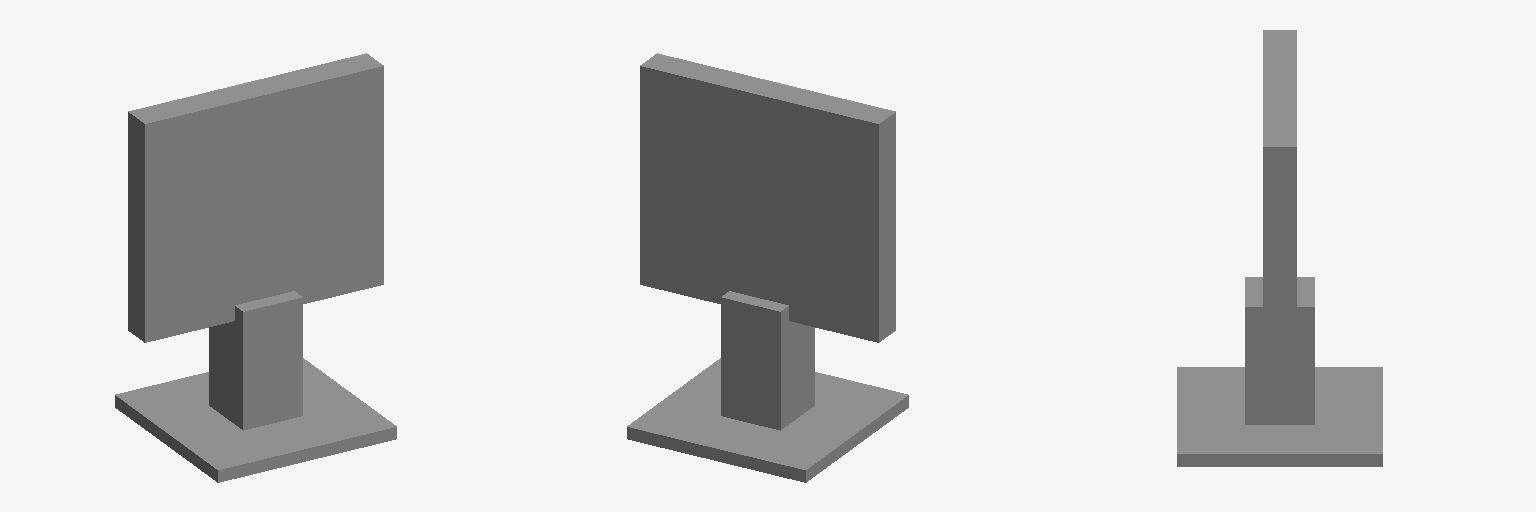
Rendered from magnifier.obj.
3 renders of one model, left to right at view 1: azimuth 30°, elevation 25°; view 2: azimuth 150°, elevation 25°; view 3: azimuth 270°, elevation 25°, orthographic.
Visible parts, largest first — view 1: Cube.002_Cube.003, Cube, Cube.001; view 2: Cube.002_Cube.003, Cube, Cube.001; view 3: Cube, Cube.002_Cube.003, Cube.001.
Boxes of the visible parts, box(x1,y1,x2,y2) form: Cube.002_Cube.003: box(128, 53, 383, 342); Cube: box(115, 358, 396, 482); Cube.001: box(209, 291, 302, 430); Cube.002_Cube.003: box(640, 53, 895, 342); Cube: box(627, 358, 908, 482); Cube.001: box(721, 291, 814, 430); Cube: box(1177, 367, 1382, 466); Cube.002_Cube.003: box(1263, 30, 1296, 365); Cube.001: box(1245, 277, 1314, 424).
Size of the model in its own units: 0.4 by 0.535 by 0.3.